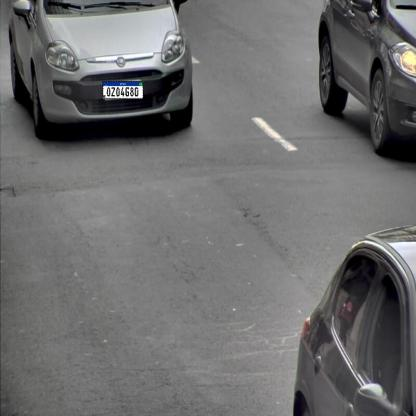PlacaM: (102, 81, 144, 99)
